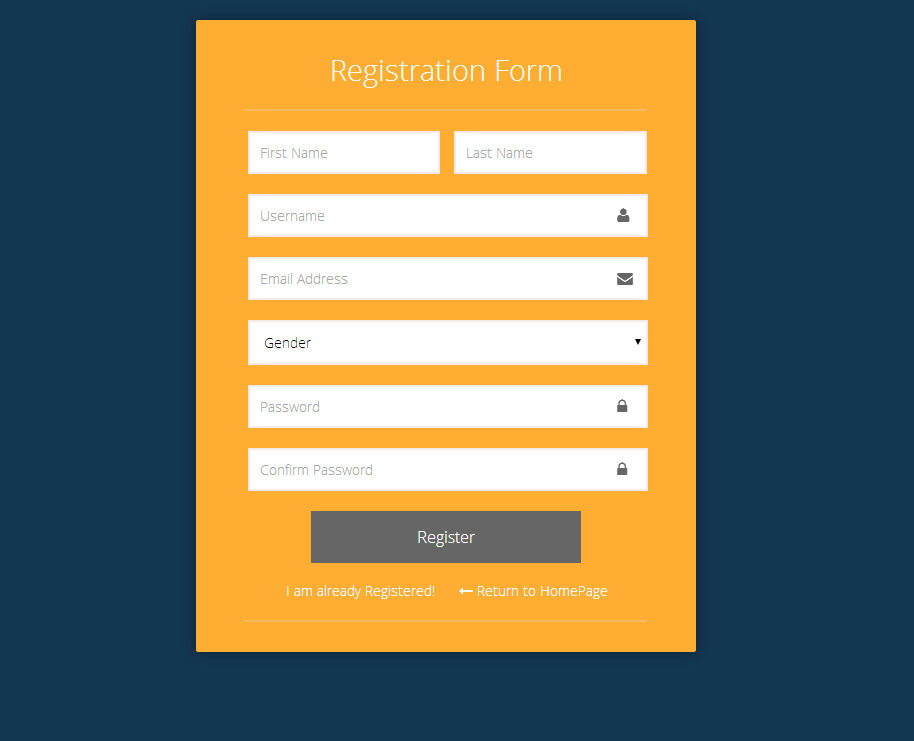_form_: (237, 84, 653, 500), (240, 188, 656, 604)
button: (310, 510, 581, 565)
field: (247, 318, 650, 366), (247, 383, 649, 430), (246, 256, 651, 302), (247, 446, 649, 492), (246, 193, 649, 238), (452, 129, 648, 176), (247, 129, 441, 174)
